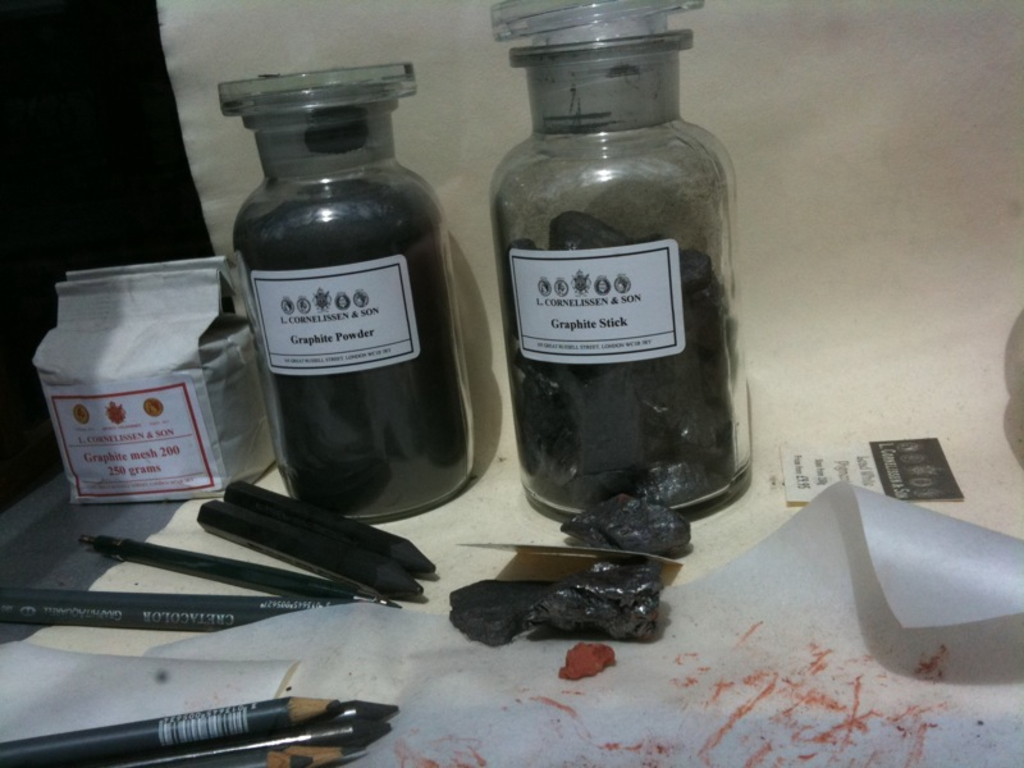Pen: (75, 532, 408, 608), (106, 718, 389, 766), (323, 700, 401, 723)
